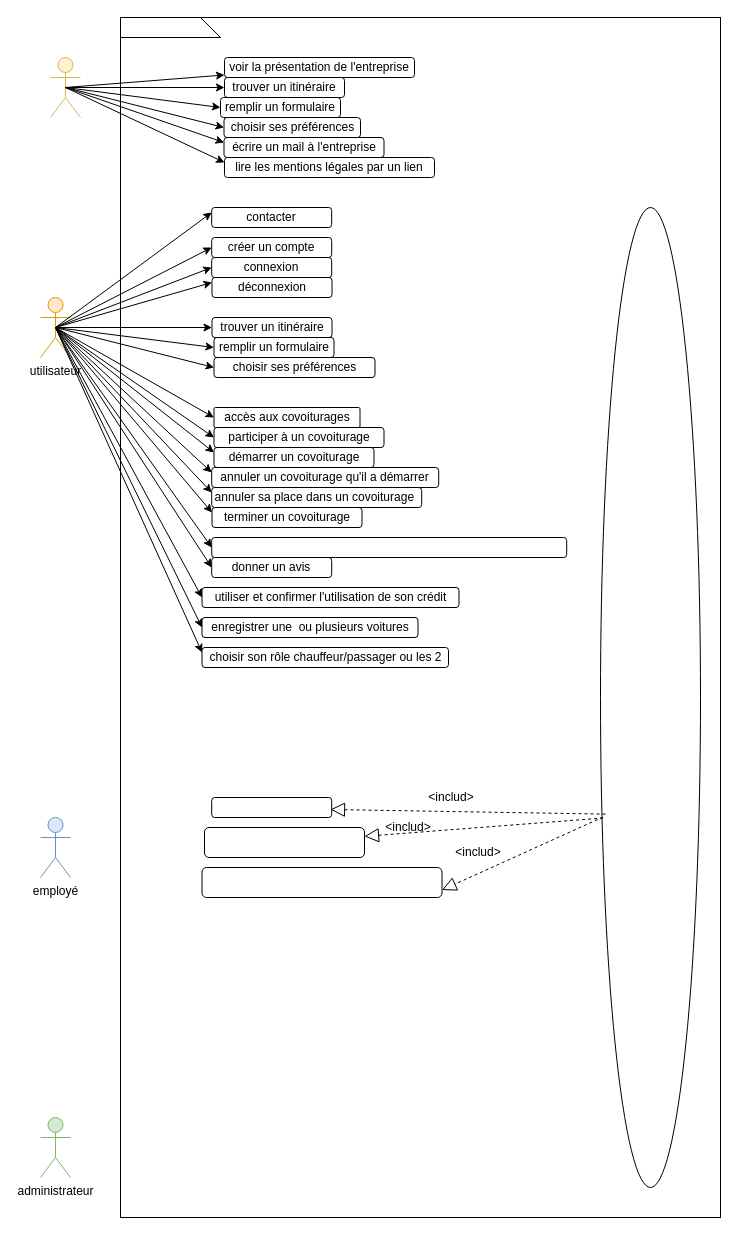
Some shapes in this 738 by 1235 pixel diagram are drawn without their labels. Here are the shapes that lost their labels. From the top down, the centre of each, then its label:
At [170,27]: "application".
At [65,87]: "visiteur".
At [389,547]: "mettre une note au chauffeur du covoiturage auquel il participe".
At [271,807]: "gérer les mails".
At [284,842]: "valider ou invalider un avis".
At [321,882]: "médiation si un covoiturage s'est mal passé".
